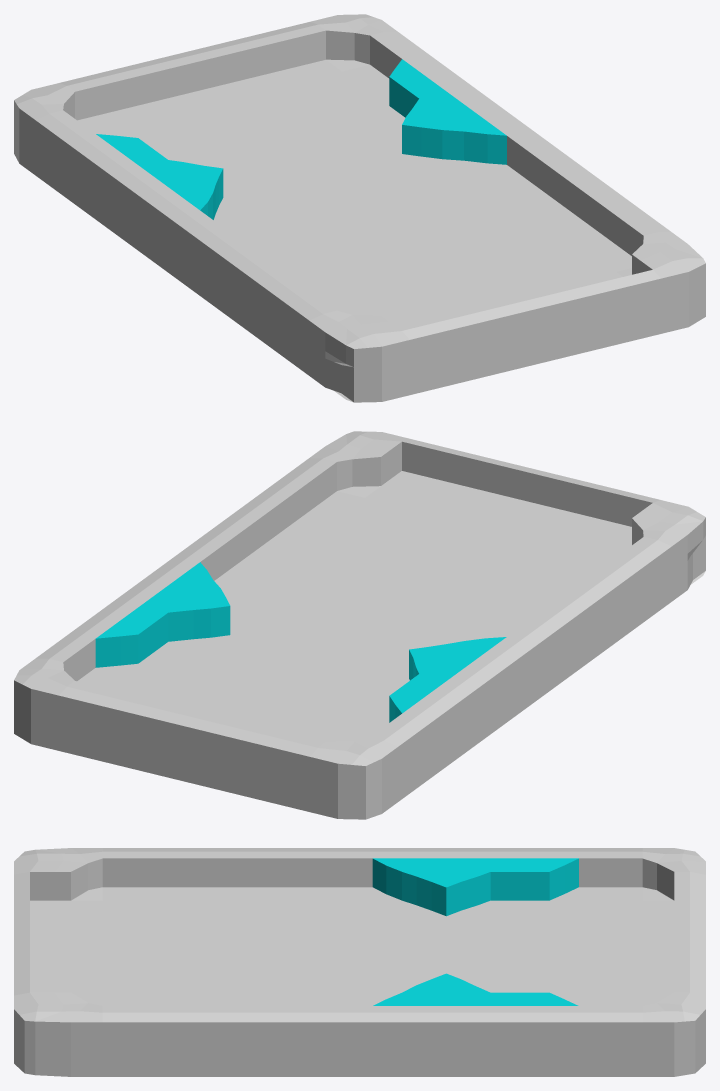
The picture shows the model from 3 angles, top to bottom: view 1: azimuth 30°, elevation 25°; view 2: azimuth 150°, elevation 25°; view 3: azimuth 270°, elevation 25°; orthographic projection.
Parts seen in each view (by area): view 1: Cube; view 2: Cube; view 3: Cube.
Boxes of the visible parts, x1,y1,x2,y2 form: Cube: [14, 14, 705, 402]; Cube: [14, 431, 705, 819]; Cube: [14, 848, 705, 1076].
Bounding box in the file's own units: 1300 × 200 × 2180.
